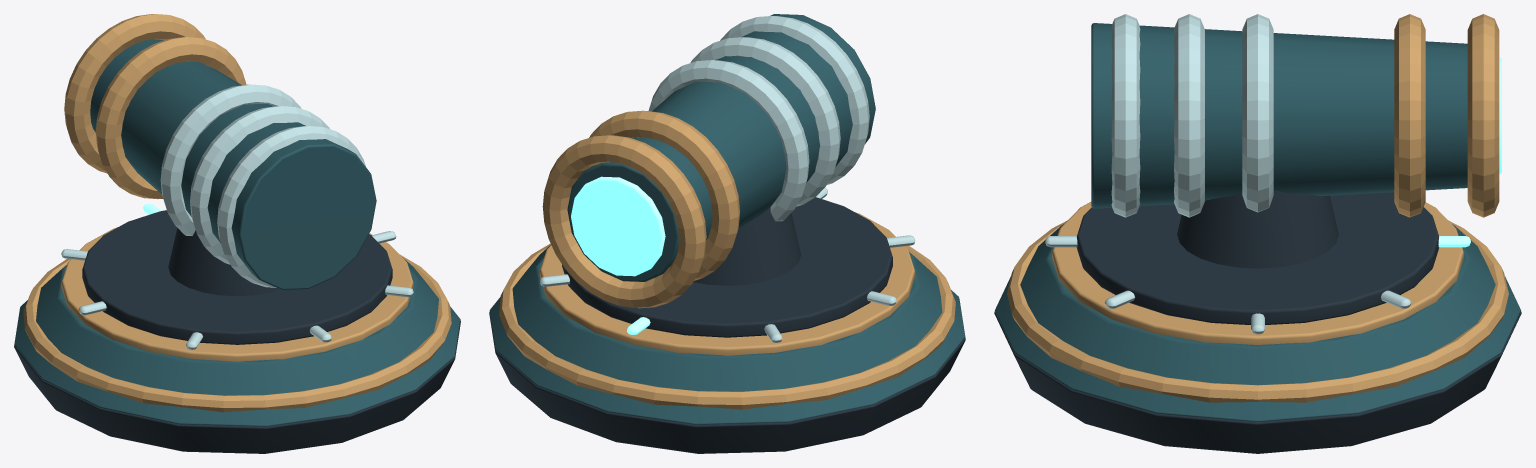
Rendered from laser.glb.
3 views of the same model, side by side, from view 1: azimuth 30°, elevation 25°; view 2: azimuth 150°, elevation 25°; view 3: azimuth 270°, elevation 25° (orthographic). The views are drawn at different scales.
Parts seen in each view (by area): view 1: laser; view 2: laser; view 3: laser.
Part boxes in pixels (<box>): laser: <box>14,14,460,453</box>; laser: <box>489,14,965,453</box>; laser: <box>994,14,1521,453</box>.
Bounding box in the file's own units: 1.08 × 0.738 × 1.08.
